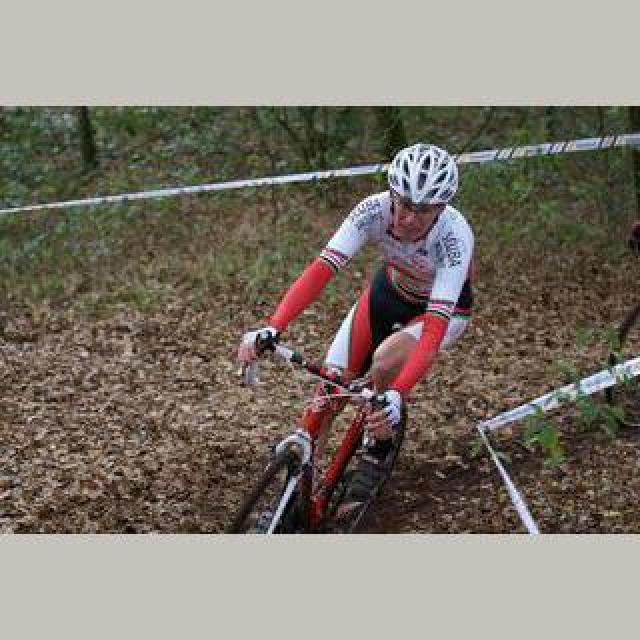MC-Bike: (240, 148, 476, 520)
Person: (223, 332, 429, 530)
